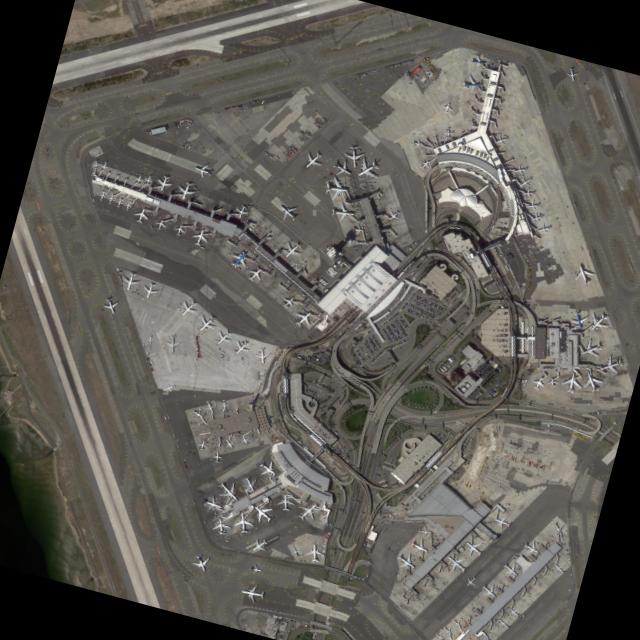plane: (352, 152, 384, 184), (213, 475, 245, 505), (293, 497, 323, 524), (442, 549, 472, 576), (248, 499, 277, 526), (584, 308, 613, 335), (392, 548, 420, 574), (291, 304, 318, 330), (577, 336, 605, 361), (323, 175, 350, 200), (461, 534, 487, 559), (300, 147, 326, 172), (239, 580, 266, 604), (570, 262, 597, 286), (597, 352, 624, 376), (579, 369, 604, 394), (194, 311, 220, 335), (275, 199, 301, 223), (226, 246, 252, 270), (329, 156, 356, 179), (176, 296, 201, 320), (407, 534, 431, 558), (256, 456, 281, 479), (280, 238, 305, 261), (560, 370, 584, 393), (201, 492, 225, 514), (190, 551, 213, 573), (174, 178, 197, 200), (331, 202, 356, 222), (343, 144, 365, 166), (500, 558, 523, 579), (248, 534, 271, 555), (521, 537, 543, 558), (230, 336, 252, 357), (232, 511, 254, 532), (189, 225, 210, 247), (567, 310, 591, 329), (120, 269, 141, 290), (244, 263, 266, 283), (479, 580, 500, 600), (240, 473, 260, 493), (213, 327, 234, 346), (193, 160, 213, 179), (493, 511, 512, 530), (101, 296, 120, 315), (132, 205, 151, 224), (154, 173, 173, 192), (141, 280, 159, 299), (305, 542, 323, 561), (276, 492, 296, 509), (211, 516, 231, 533), (164, 333, 181, 352), (463, 75, 482, 92), (549, 519, 567, 536), (530, 374, 547, 391), (550, 559, 567, 575), (462, 572, 479, 588), (280, 293, 297, 309), (517, 173, 534, 189), (385, 207, 402, 223), (233, 202, 249, 218), (255, 345, 270, 362), (495, 614, 512, 629), (506, 603, 522, 618), (535, 221, 552, 235), (529, 210, 545, 223), (493, 132, 509, 145), (418, 157, 432, 171), (204, 398, 217, 413), (190, 406, 205, 419), (512, 162, 527, 175), (222, 436, 236, 449), (440, 100, 454, 113), (471, 54, 485, 67), (154, 216, 167, 230), (173, 222, 186, 236), (163, 381, 177, 393), (248, 562, 262, 574), (526, 198, 540, 210), (417, 525, 432, 536), (566, 67, 578, 80), (239, 432, 251, 444), (197, 438, 209, 450), (289, 545, 302, 556), (442, 624, 454, 635), (212, 450, 223, 462), (352, 223, 364, 234), (133, 172, 144, 184), (523, 187, 535, 197), (412, 137, 424, 147), (106, 192, 116, 204), (97, 188, 107, 200), (451, 617, 462, 627), (123, 199, 133, 210), (344, 235, 354, 245), (99, 160, 109, 170), (143, 174, 153, 184), (220, 398, 229, 409), (115, 196, 124, 207), (547, 377, 558, 386), (435, 631, 445, 639), (444, 127, 452, 137), (92, 159, 100, 168), (147, 333, 154, 343), (464, 635, 472, 640), (474, 637, 481, 640)
